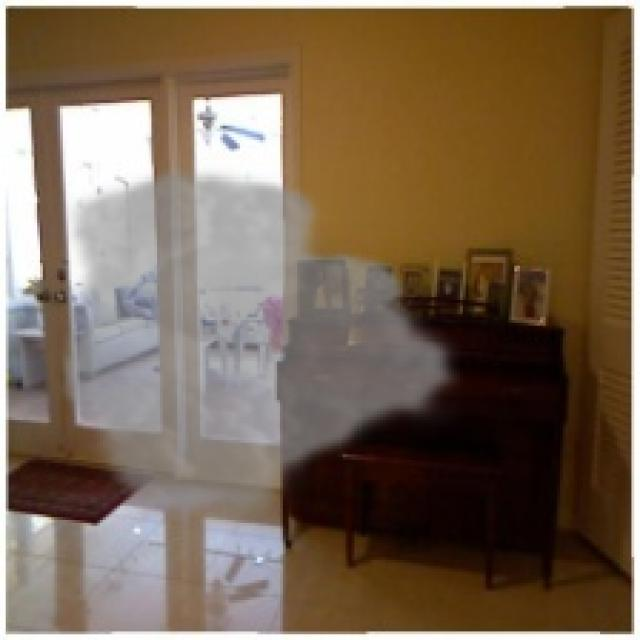smoke: (54, 163, 466, 526)
